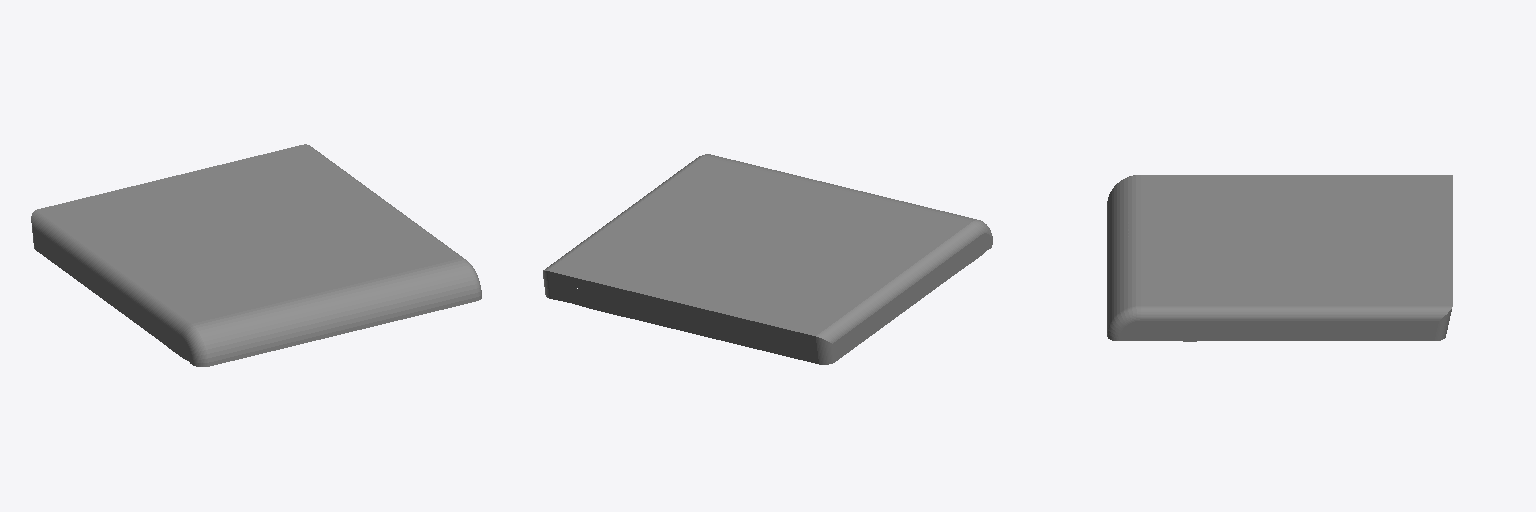
Rendered from seat.obj.
The picture shows the model from 3 angles: view 1: azimuth 30°, elevation 25°; view 2: azimuth 150°, elevation 25°; view 3: azimuth 270°, elevation 25°; orthographic projection.
Parts seen in each view (by area): view 1: seat; view 2: seat; view 3: seat.
Part boxes in pixels (left/top/right/bottom): seat: left=31, top=144, right=481, bottom=366; seat: left=543, top=154, right=992, bottom=364; seat: left=1107, top=175, right=1452, bottom=341.
Bounding box in the file's own units: 23.35 × 2.41 × 24.29.